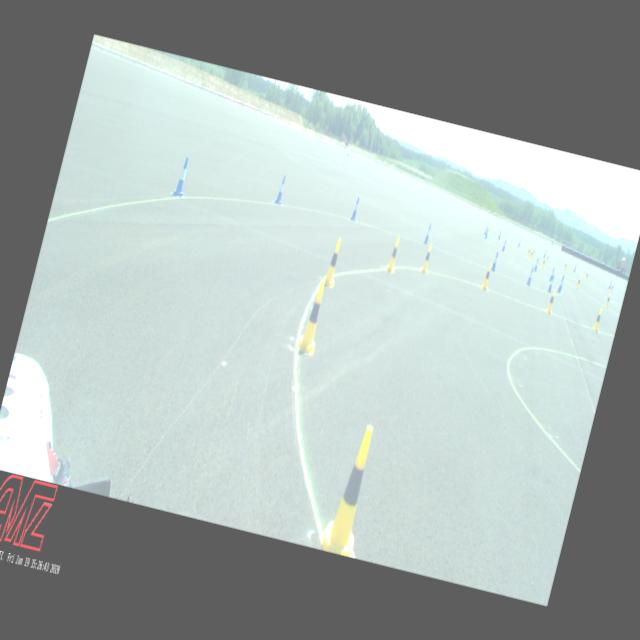blue_cone: (172, 156, 192, 197), (274, 175, 288, 204), (350, 197, 360, 220), (423, 222, 432, 244), (490, 251, 499, 271), (526, 266, 534, 286), (556, 274, 564, 292), (546, 274, 554, 292), (559, 274, 565, 290), (533, 258, 539, 271), (549, 267, 554, 280), (501, 239, 506, 250), (484, 228, 489, 238), (483, 226, 488, 234), (498, 230, 502, 239), (573, 263, 577, 272), (608, 280, 612, 288), (542, 250, 546, 258), (517, 238, 520, 246)
yellow_cone: (316, 420, 386, 557), (294, 278, 330, 355), (322, 236, 344, 288), (385, 236, 402, 273), (420, 242, 434, 273), (480, 262, 492, 290), (544, 288, 556, 314), (592, 307, 603, 331), (604, 293, 611, 307), (576, 276, 580, 288), (528, 248, 532, 260), (541, 256, 545, 268), (585, 270, 589, 280), (610, 282, 614, 292), (531, 248, 535, 257), (526, 247, 530, 256), (545, 253, 549, 262), (564, 262, 566, 270)
